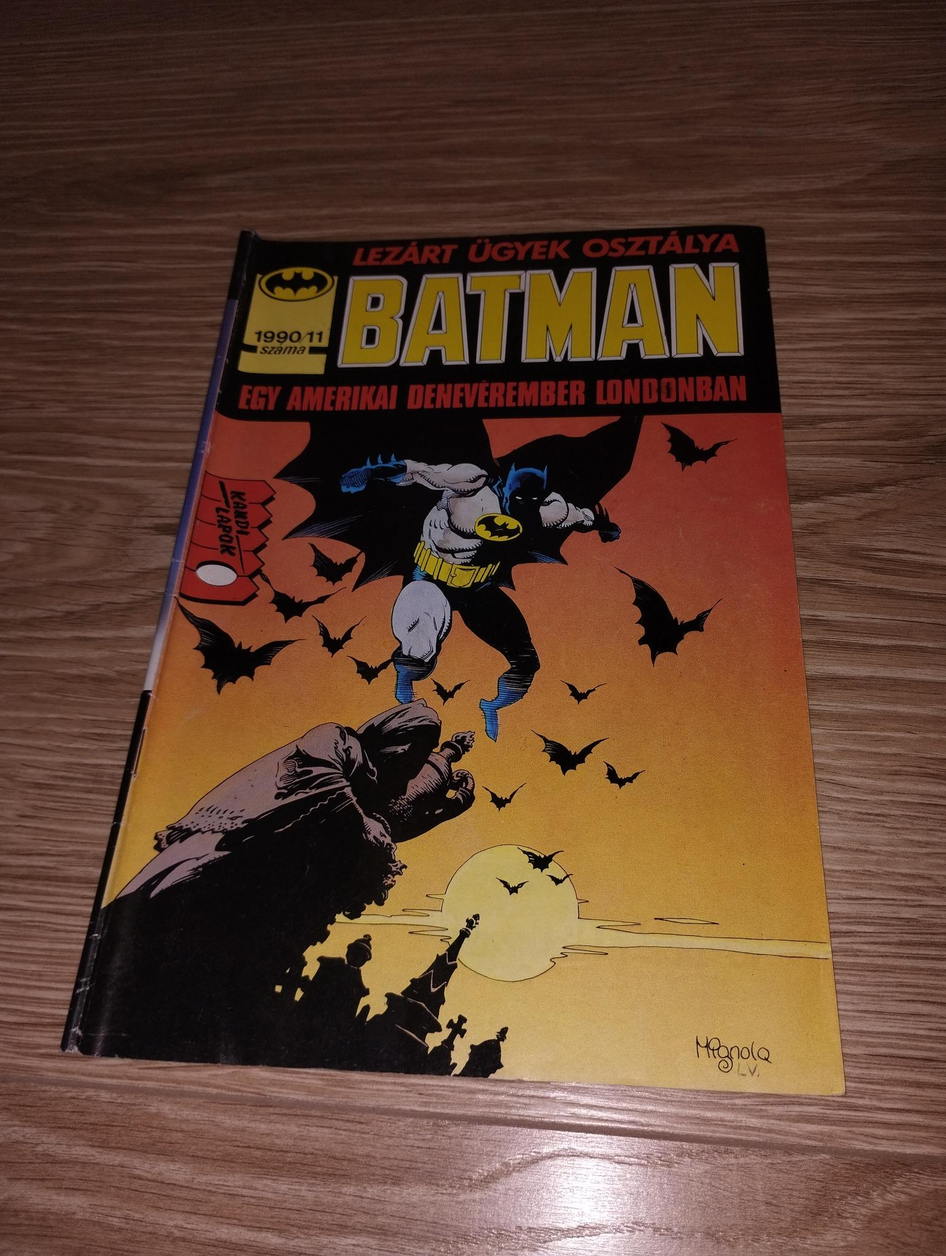comic: (63, 195, 885, 1095)
